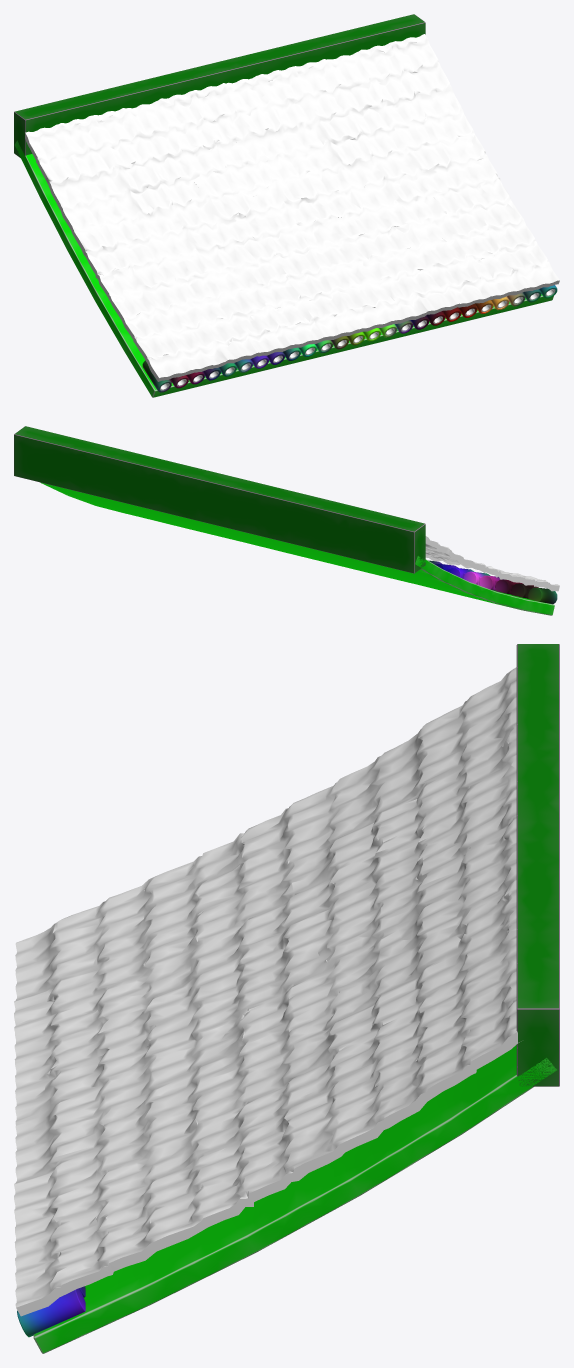
The model's file is roof_side_400x200_01_middle.fbx.
The picture shows the model from 3 angles, top to bottom: view 1: azimuth 30°, elevation 25°; view 2: azimuth 150°, elevation 25°; view 3: azimuth 270°, elevation 25°; orthographic projection. The views are drawn at different scales.
Visible parts, largest first — view 1: roof_side_400x200_01_middle; view 2: roof_side_400x200_01_middle; view 3: roof_side_400x200_01_middle.
Boxes of the visible parts, bbox=[...] form: roof_side_400x200_01_middle: bbox=[14, 14, 559, 397]; roof_side_400x200_01_middle: bbox=[14, 426, 559, 615]; roof_side_400x200_01_middle: bbox=[14, 644, 559, 1353].
Size of the model in its own units: 4 by 1.77 by 2.53.
